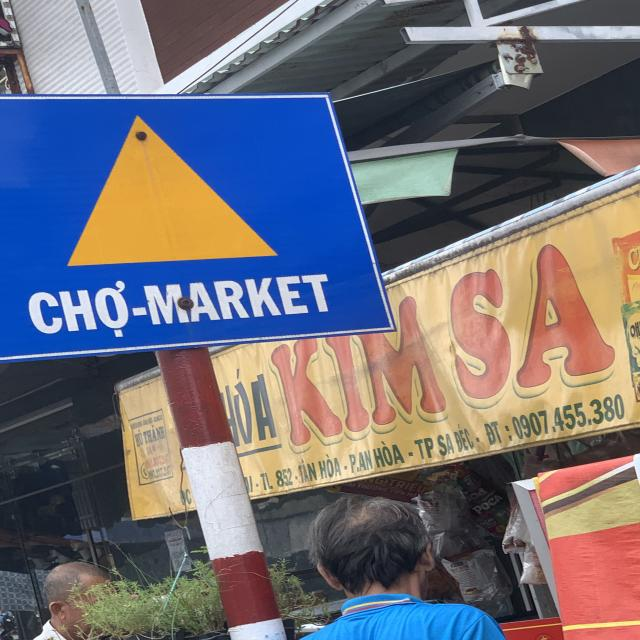Cho_Quay_Xe: (1, 90, 395, 360)
